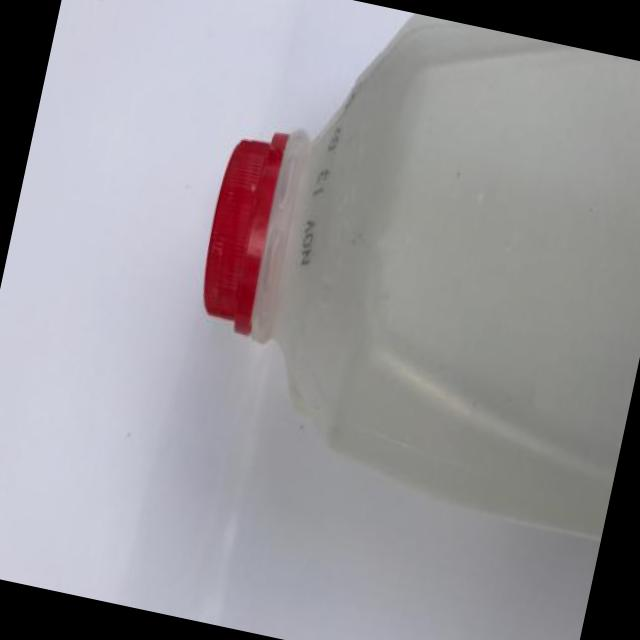Recycle: (156, 0, 640, 557)
